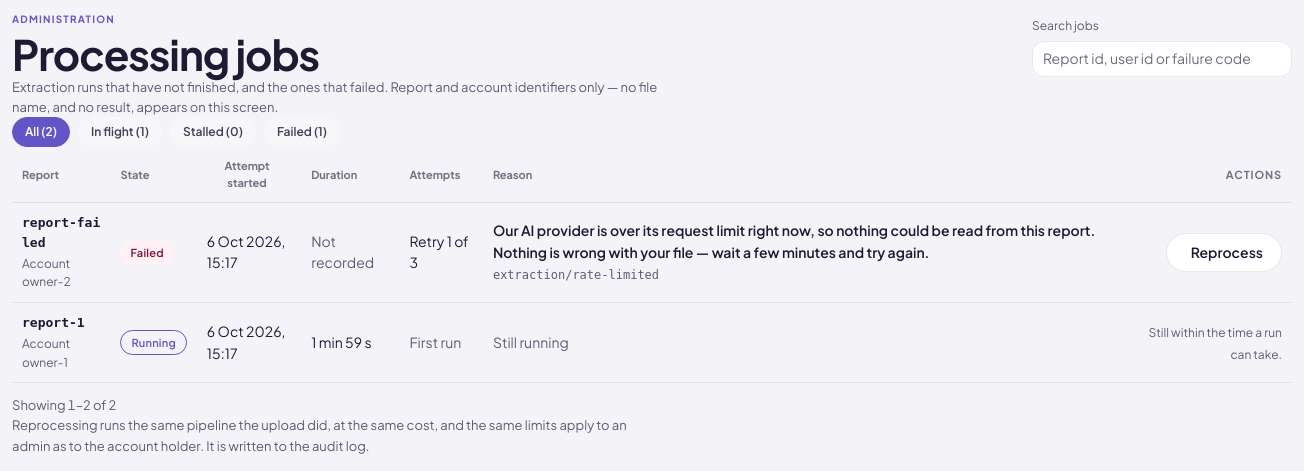
Scenario: AdminJobs › searches the report id, the account and the failure code
The width and height of the screenshot is (1304, 471).
Type "owner-2" into the search field labelled "Search jobs" at coordinates (1162, 58), box [1032,40,1292,76]
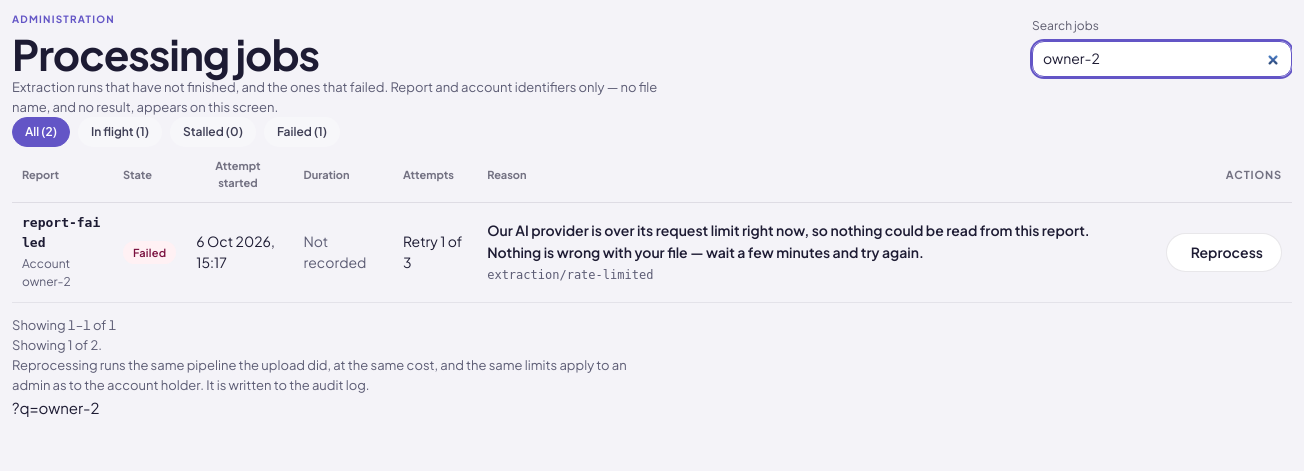
Expected: the text "report-failed" is shown, [22,212,103,253]
Now the text "report-1" is gone
